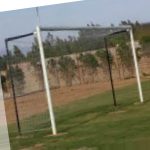goals: (5, 23, 145, 135)
